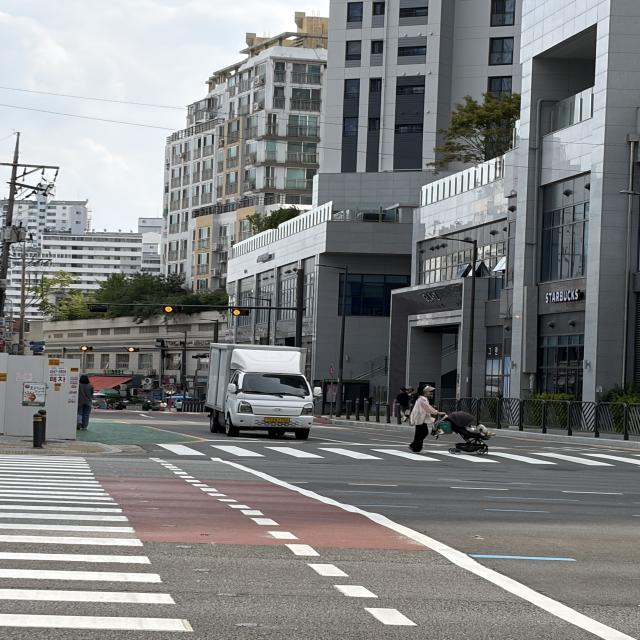car: (180, 322, 338, 468)
